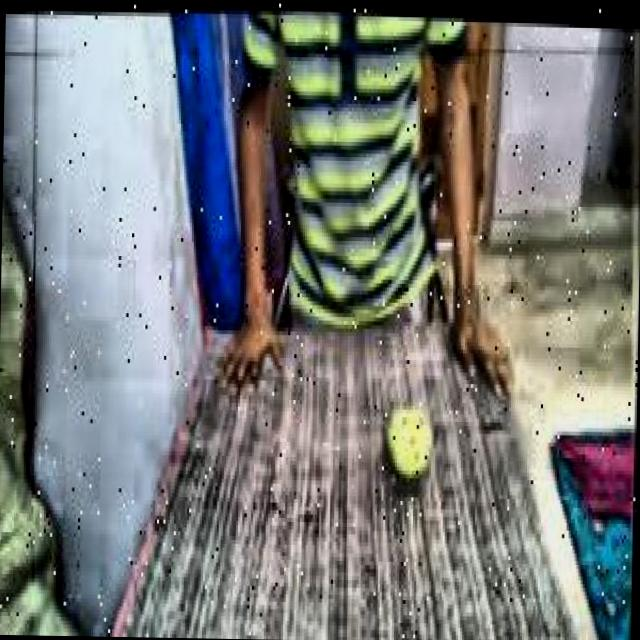Tennis Ball: (381, 406, 436, 498)
